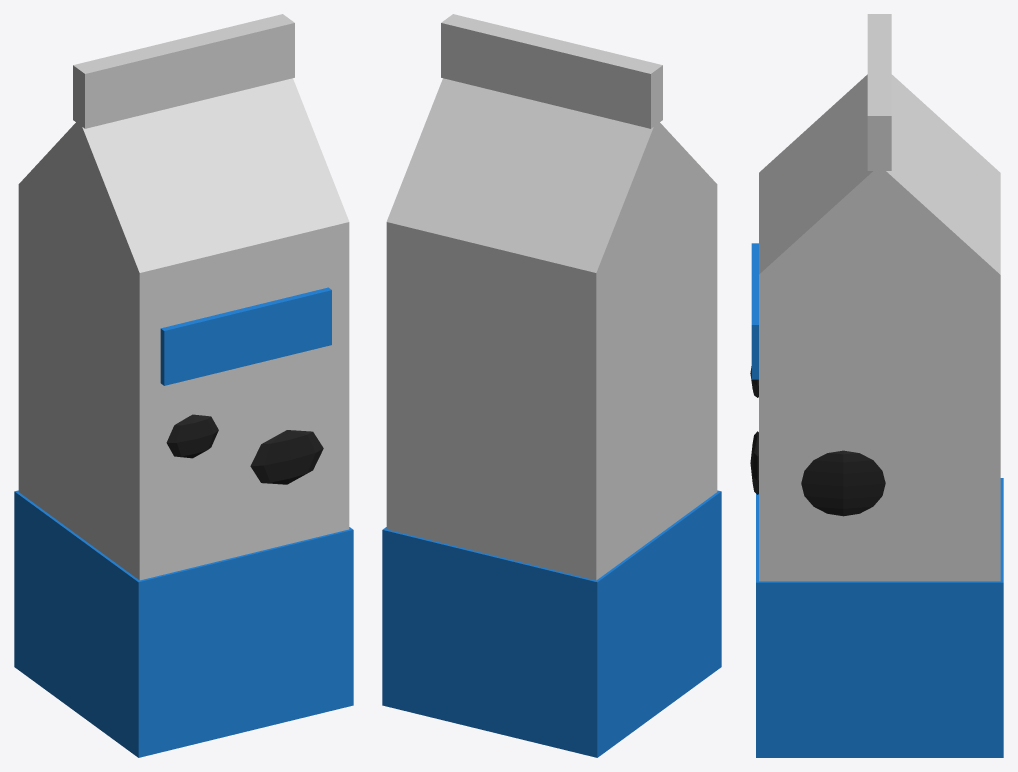
File: mjolkpaket.glb
The picture shows the model from 3 angles, left to right: view 1: azimuth 30°, elevation 25°; view 2: azimuth 150°, elevation 25°; view 3: azimuth 270°, elevation 25°; orthographic projection.
Visible parts, largest first — view 1: mjolkpaket; view 2: mjolkpaket; view 3: mjolkpaket.
Boxes of the visible parts, left/top/right/bottom form: mjolkpaket: left=14, top=14, right=353, bottom=757; mjolkpaket: left=382, top=14, right=721, bottom=757; mjolkpaket: left=750, top=14, right=1003, bottom=757.
Bounding box in the file's own units: 0.2095 × 0.585 × 0.2095.
